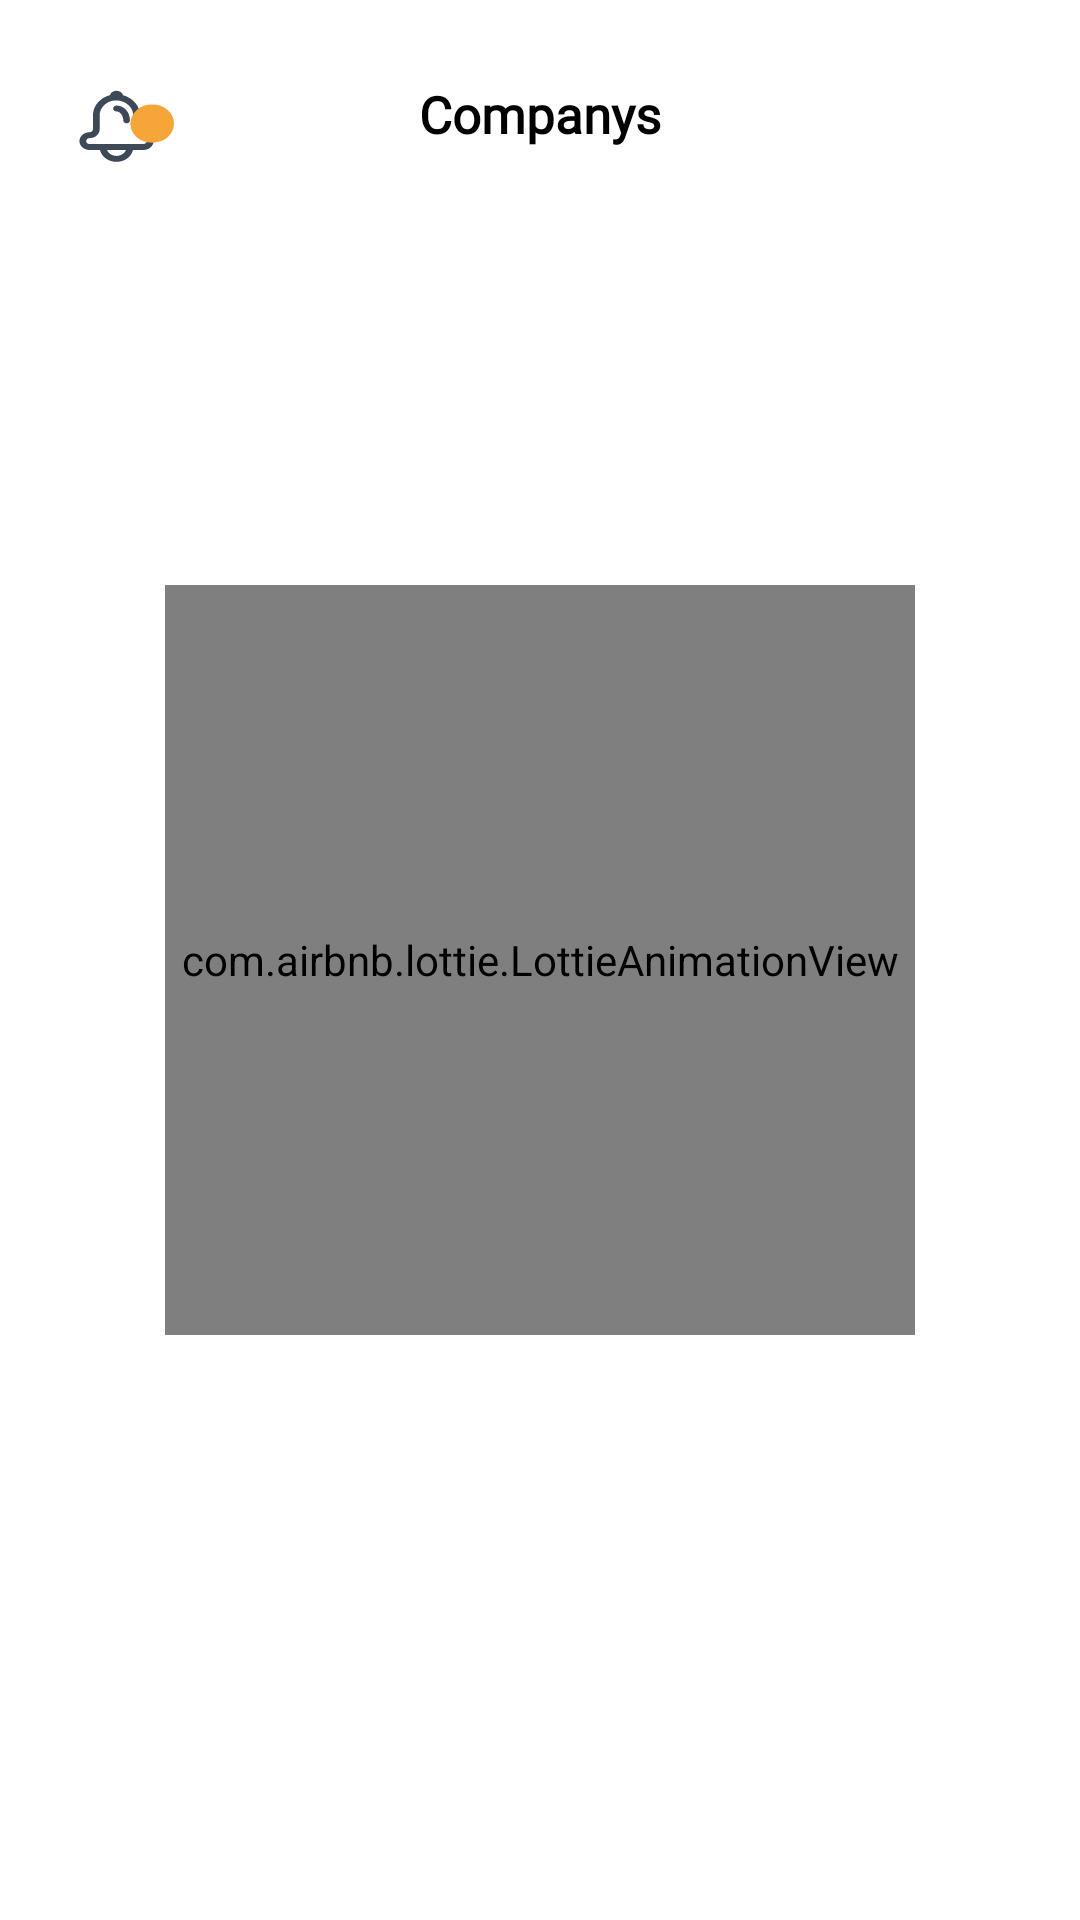

Screen size 1080w x 1920h. Icon name, then its center in pixels as (x=x, y=y):
notifications: (x=126, y=126)
